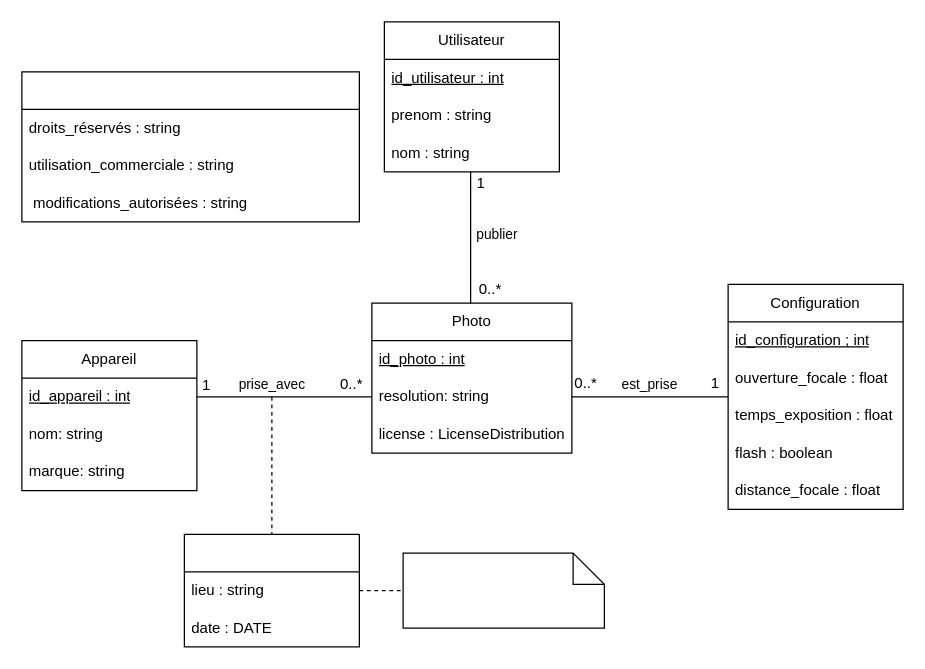
Some shapes in this 925 by 669 pixel diagram are drawn without their labels. Here are the shapes that lost their labels. From the top down, the box of each, then its label:
(21, 71, 359, 222): <<enum>> LicenseDistribution
(402, 552, 604, 628): lieu : coordonnées géographiques
